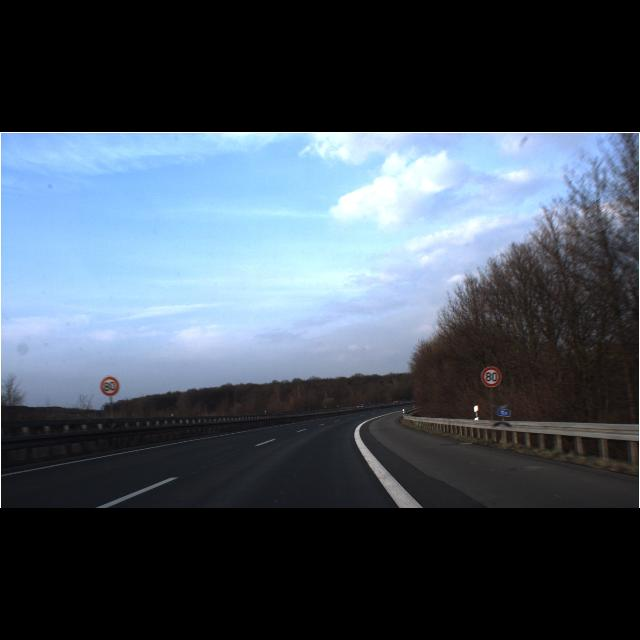prohibitory: (481, 367, 502, 388), (100, 376, 120, 396)
